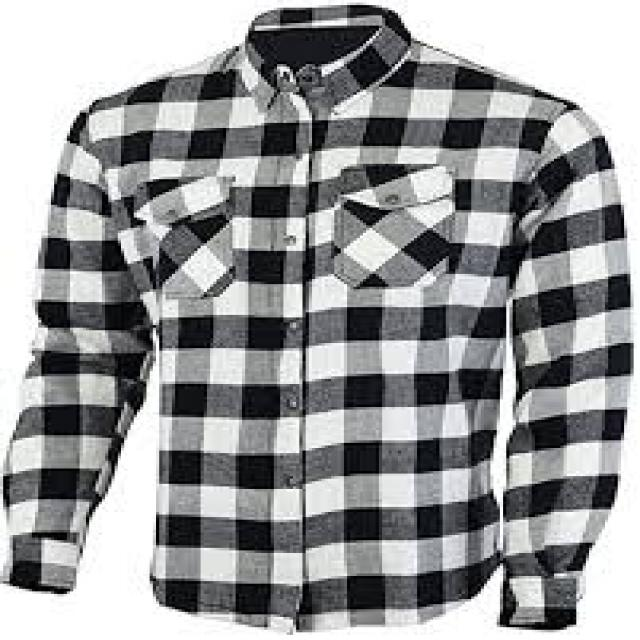plaid: (12, 0, 640, 636)
